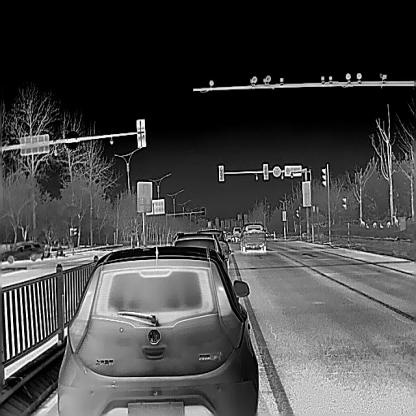car: (56, 246, 258, 415), (170, 232, 230, 274), (196, 229, 230, 267), (1, 240, 43, 263), (237, 223, 266, 250)
truck: (232, 227, 240, 241)
